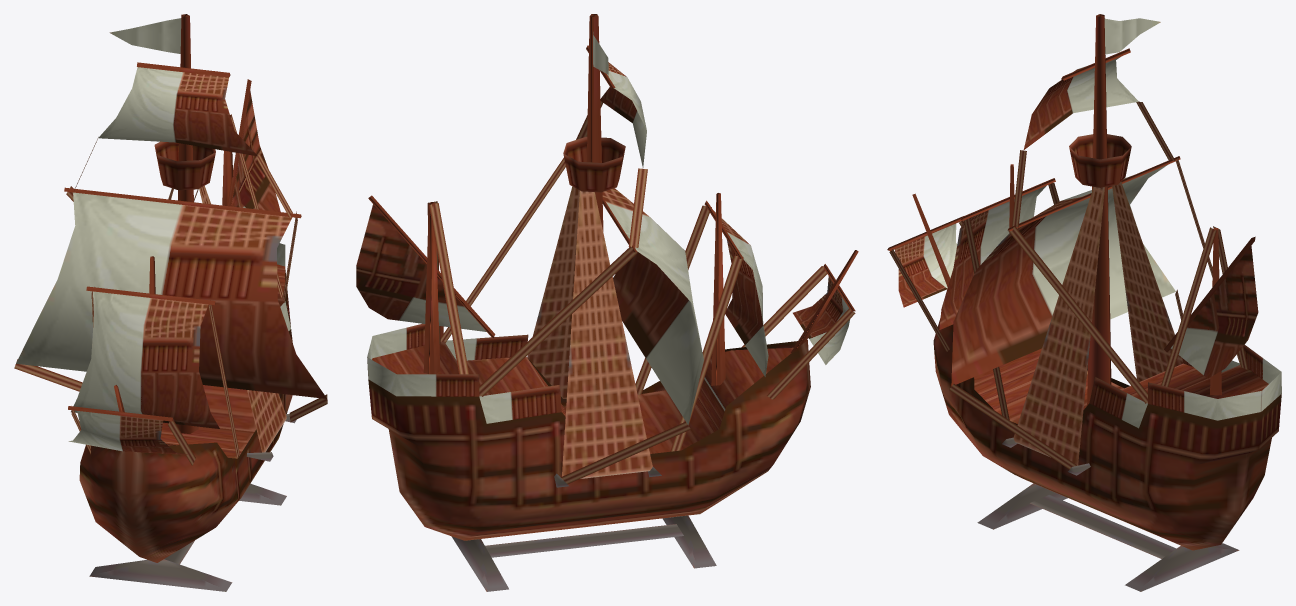
Rendered from int_oth_sailer.dae.
The picture shows the model from 3 angles, left to right: view 1: azimuth 30°, elevation 25°; view 2: azimuth 150°, elevation 25°; view 3: azimuth 270°, elevation 25°; orthographic projection. The views are drawn at different scales.
Parts seen in each view (by area): view 1: int_oth_sailer; view 2: int_oth_sailer; view 3: int_oth_sailer.
Boxes of the visible parts, x1,y1,x2,y2 form: int_oth_sailer: [14, 14, 327, 591]; int_oth_sailer: [356, 14, 858, 591]; int_oth_sailer: [887, 14, 1281, 591].
Size of the model in its own units: 26.1 by 37.7 by 26.07.
1 material, 1 textured.
